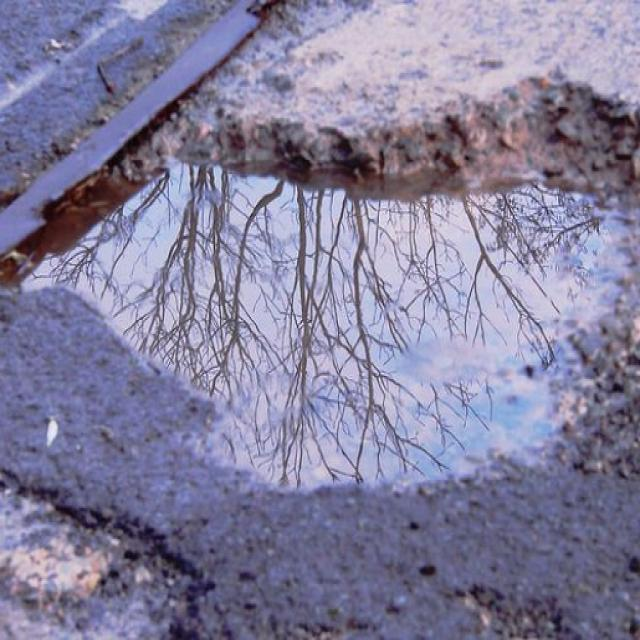pothole: (31, 70, 638, 499)
